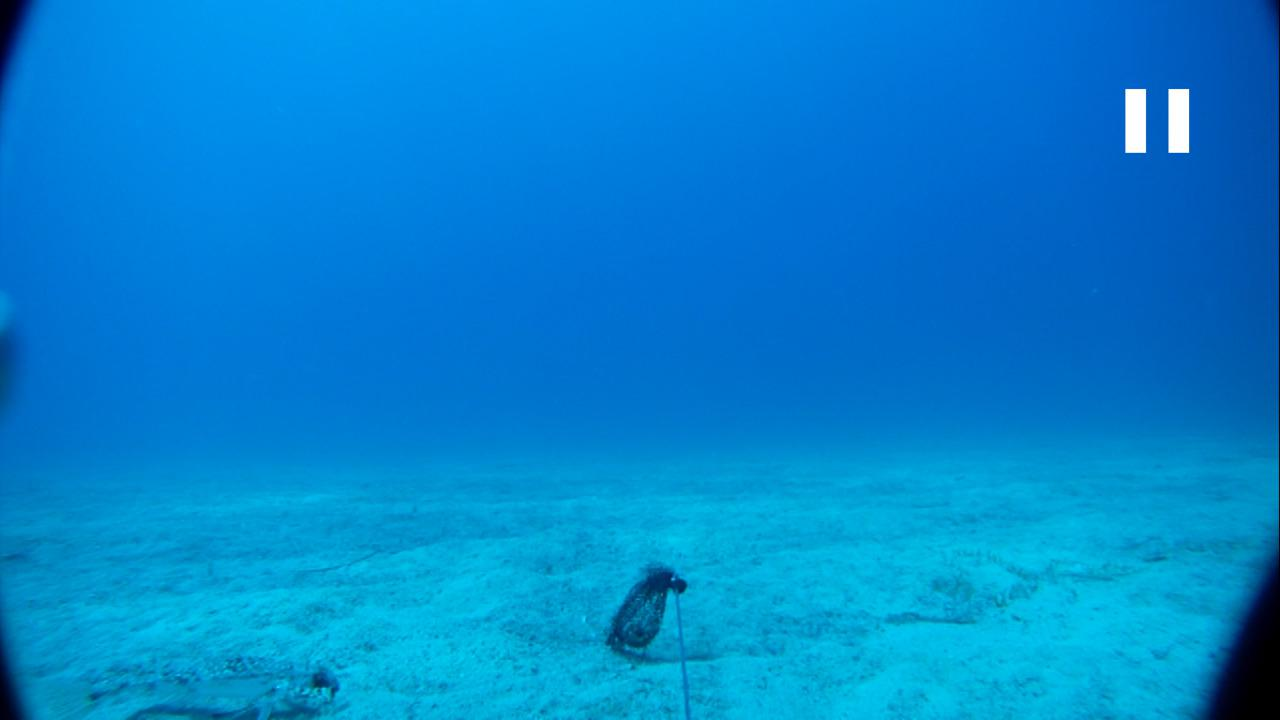dactylopterus: (65, 648, 352, 714)
